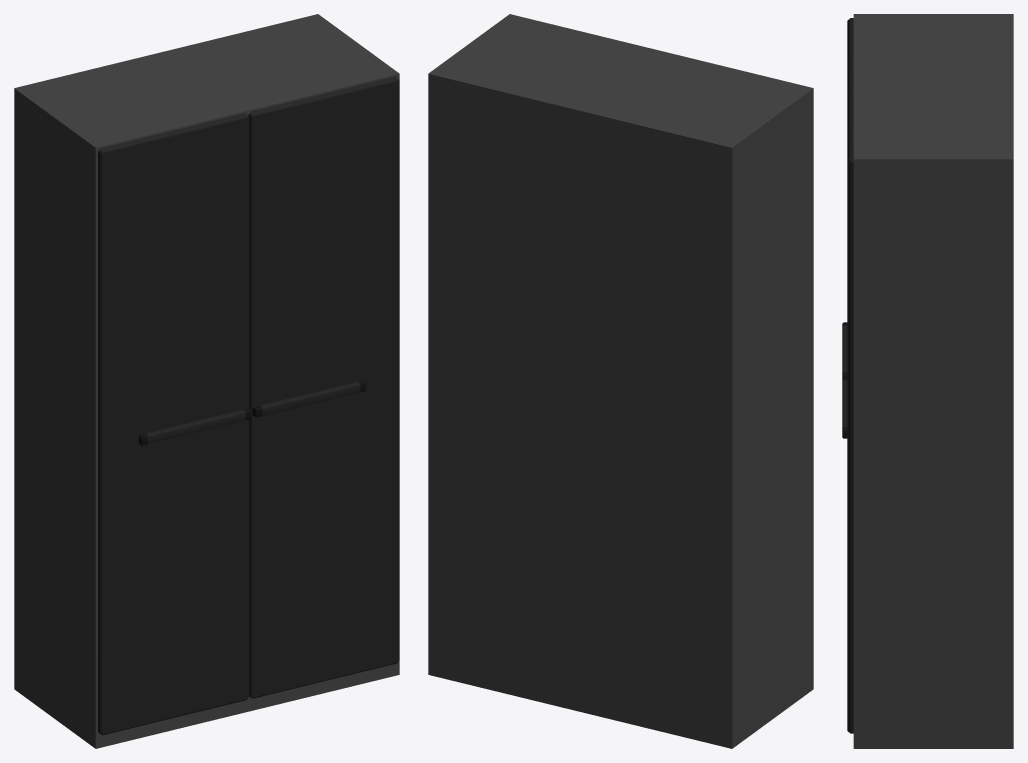
The model's file is cupboard_026.fbx.
3 renders of one model, left to right at view 1: azimuth 30°, elevation 25°; view 2: azimuth 150°, elevation 25°; view 3: azimuth 270°, elevation 25°, orthographic.
Parts seen in each view (by area): view 1: cupboard_026; view 2: cupboard_026; view 3: cupboard_026.
Part boxes in pixels (x1,y1,x2,y2): cupboard_026: [14, 14, 399, 748]; cupboard_026: [428, 14, 813, 748]; cupboard_026: [842, 14, 1013, 748].
Size of the model in its own units: 143 by 71.35 by 271.
